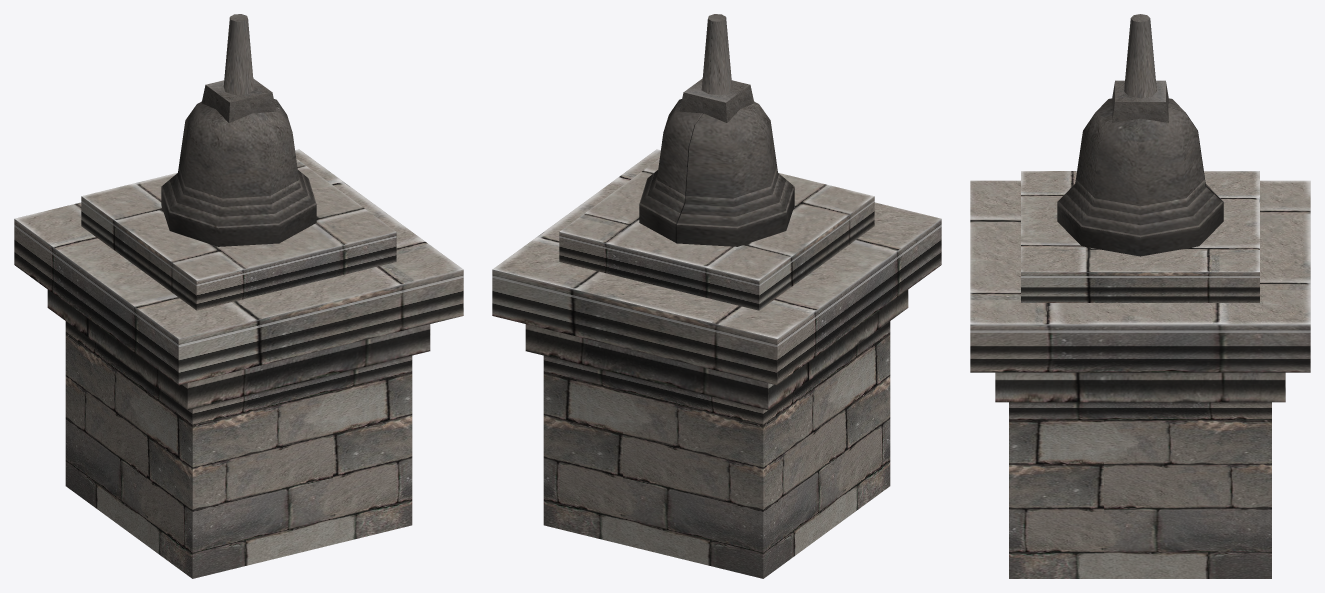
File: Gate_B.FBX
3 renders of one model, left to right at view 1: azimuth 30°, elevation 25°; view 2: azimuth 150°, elevation 25°; view 3: azimuth 270°, elevation 25°, orthographic. The views are drawn at different scales.
Visible parts, largest first — view 1: Gate_B; view 2: Gate_B; view 3: Gate_B.
Part boxes in pixels (box(x1,y1,x2,y2)): Gate_B: box(14, 14, 463, 578); Gate_B: box(492, 14, 941, 578); Gate_B: box(970, 14, 1310, 578).
Bounding box in the file's own units: 1.8 × 2.95 × 1.8.
